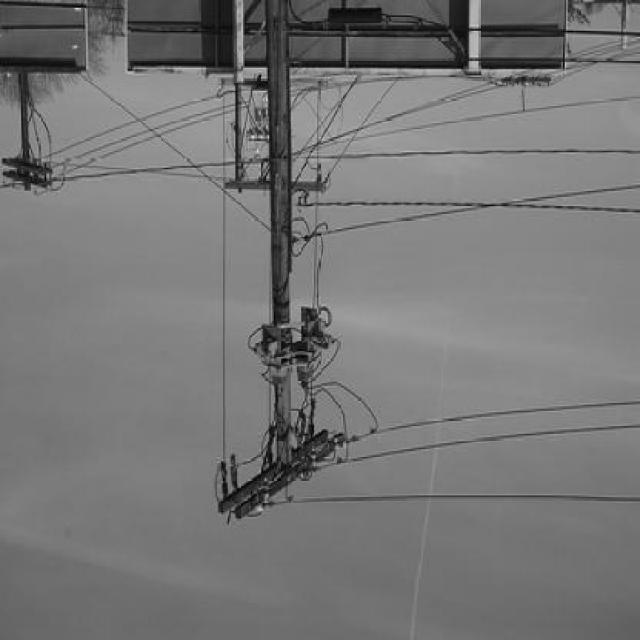pole: (211, 0, 340, 538)
